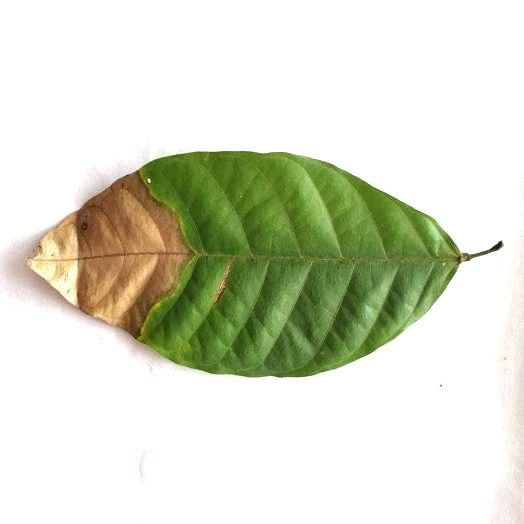Potassium: (29, 151, 501, 376)
